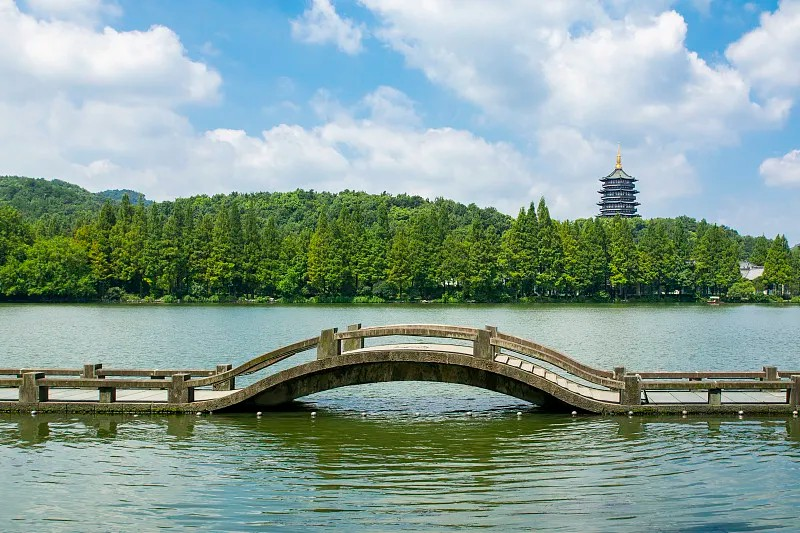Leifeng: (597, 142, 641, 221)
